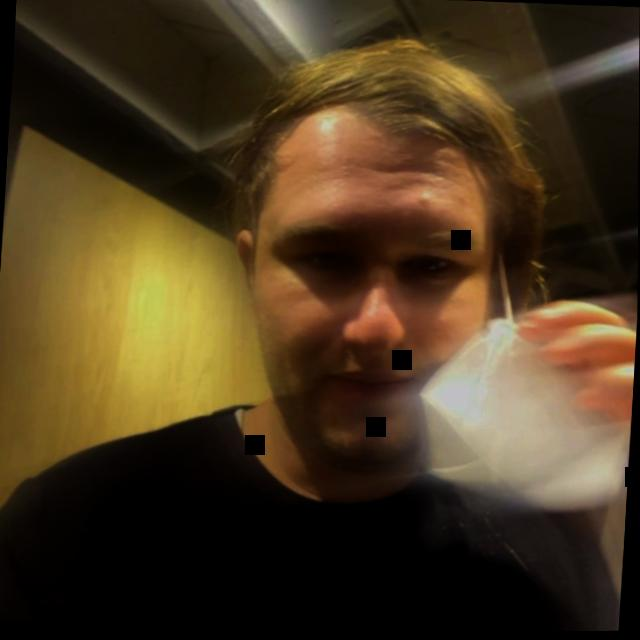NO-Mask: (187, 10, 575, 493)
